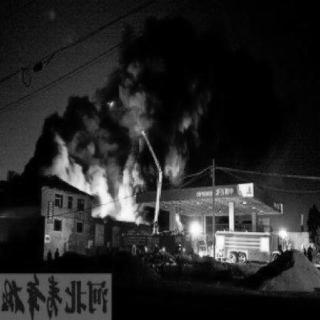Fire: (166, 142, 186, 182), (173, 208, 189, 236)
Smoke: (36, 0, 320, 155)
